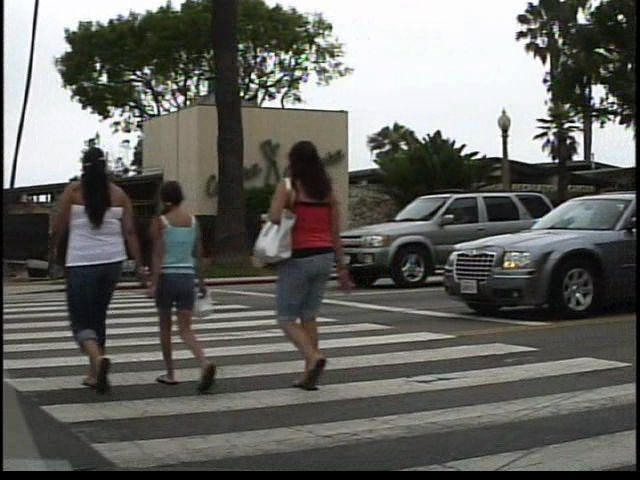person: (270, 133, 376, 401), (63, 141, 160, 401), (159, 176, 233, 400)
